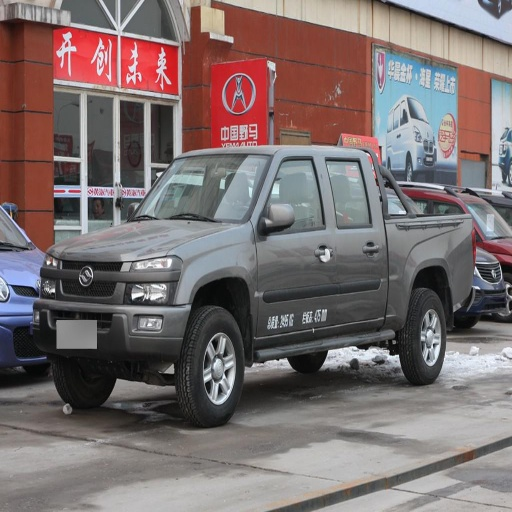back_glass: (323, 151, 383, 322)
back_right_light: (2, 255, 191, 362)
front_bumper: (134, 155, 271, 221)
front_glass: (256, 155, 335, 337)
front_left_door: (131, 254, 181, 302)
front_right_light: (50, 221, 237, 261)
tailgate: (388, 220, 477, 319)
trunk: (179, 307, 244, 426), (401, 289, 447, 384), (48, 356, 115, 409)
